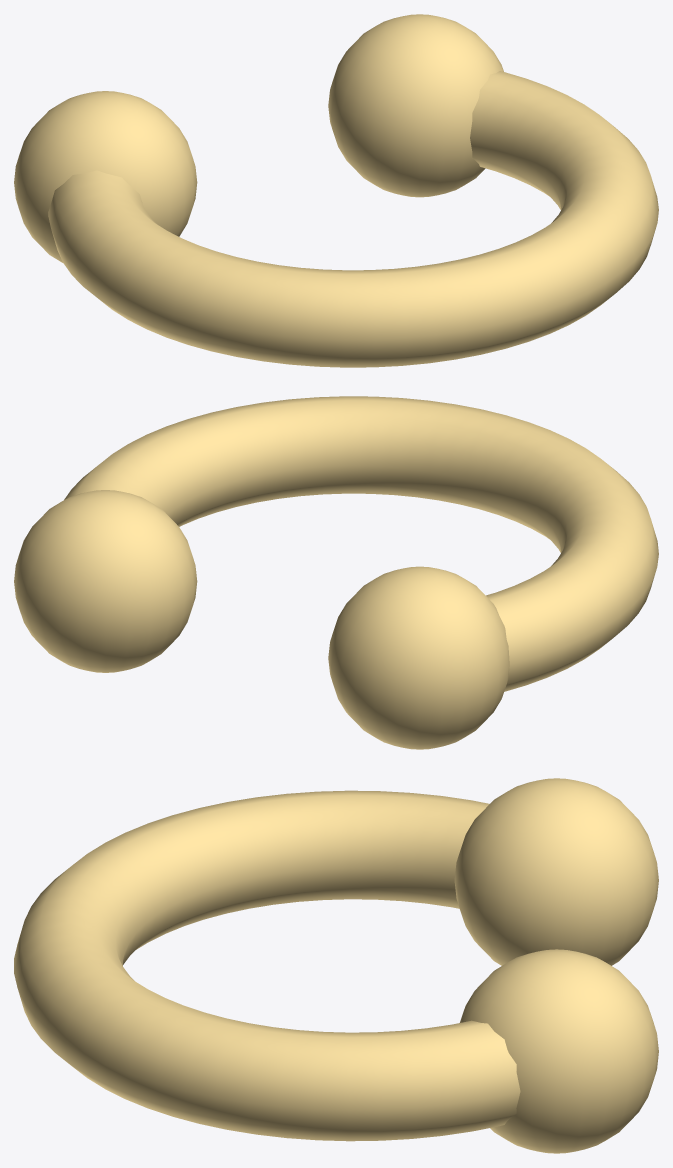
Rendered from horseshoe-gold585-10mm-14g.glb.
The picture shows the model from 3 angles, top to bottom: view 1: azimuth 30°, elevation 25°; view 2: azimuth 150°, elevation 25°; view 3: azimuth 270°, elevation 25°; orthographic projection. The views are drawn at different scales.
Visible parts, largest first — view 1: horseshoe; view 2: horseshoe; view 3: horseshoe.
Boxes of the visible parts, x1,y1,x2,y2 form: horseshoe: [14, 14, 658, 367]; horseshoe: [14, 396, 658, 749]; horseshoe: [14, 778, 658, 1153].
Bounding box in the file's own units: 0.01 × 0.003 × 0.00946.
